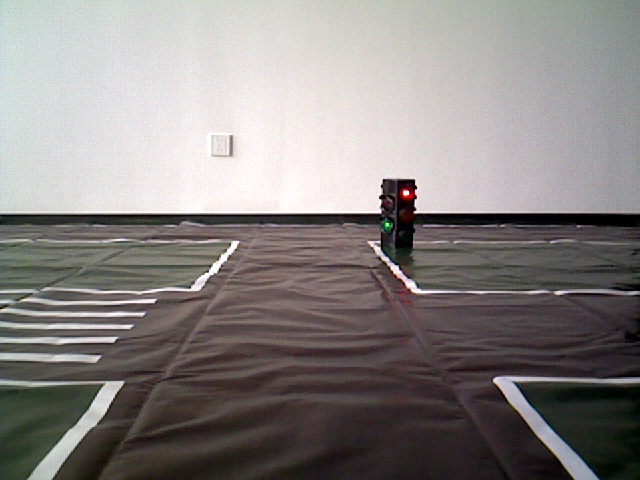red: (380, 180, 414, 251)
